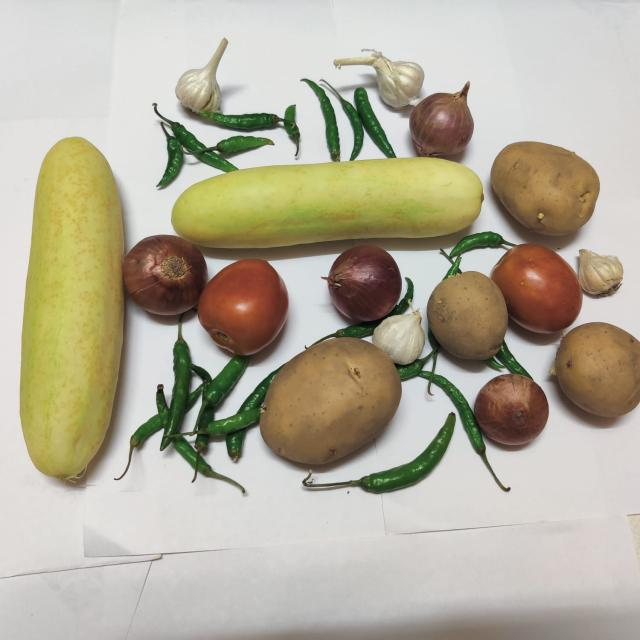Organik: (10, 133, 133, 490), (170, 153, 491, 244), (256, 331, 402, 471), (133, 340, 256, 481), (490, 132, 604, 240), (490, 233, 584, 337), (316, 30, 426, 118), (549, 323, 640, 429), (198, 258, 292, 358), (117, 234, 217, 322), (424, 270, 510, 366), (142, 104, 234, 192), (322, 246, 408, 324), (170, 31, 243, 118), (474, 368, 548, 451), (413, 86, 488, 156)
